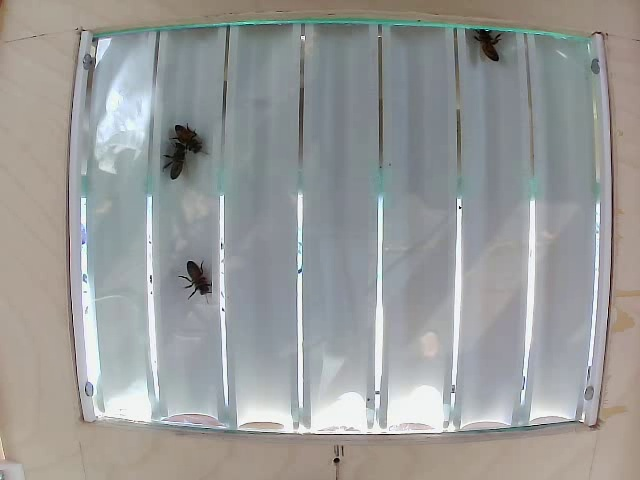bee: (471, 32, 512, 76), (181, 248, 215, 300), (184, 122, 213, 158), (164, 146, 192, 181)
